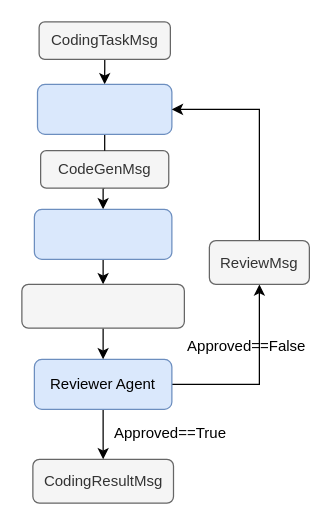
Some shapes in this 331 by 525 pixel diagram are drawn without their labels. The shapes that lost their labels are listed below. From the top down, each one's box as (x1, y1, x2, y2) in pixels, then its label:
(36, 83, 172, 134): Coder Agent
(33, 208, 172, 259): Executor Agent
(21, 283, 184, 328): ExecutionResultMsg
